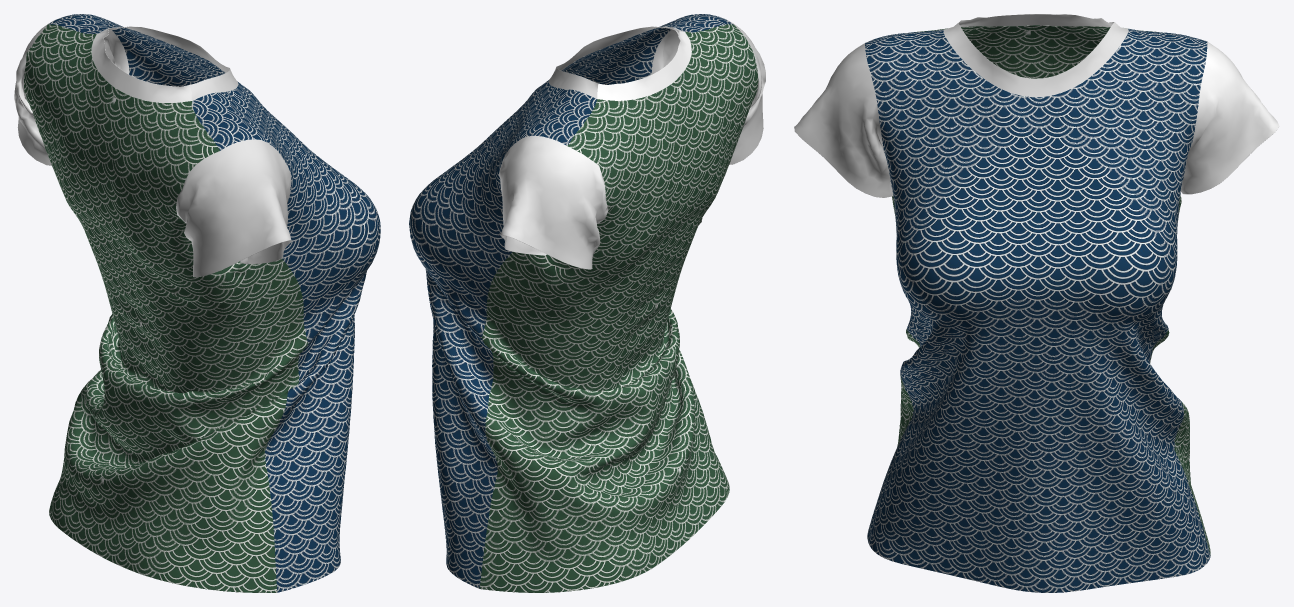
The model's file is tshirt.gltf.
3 renders of one model, left to right at view 1: azimuth 30°, elevation 25°; view 2: azimuth 150°, elevation 25°; view 3: azimuth 270°, elevation 25°, orthographic. The views are drawn at different scales.
Parts seen in each view (by area): view 1: Pattern2D_12957, Pattern2D_12956, Pattern2D_19106, Pattern2D_19107, Pattern2D_27802, Pattern2D_27801; view 2: Pattern2D_12957, Pattern2D_12956, Pattern2D_19107, Pattern2D_19106, Pattern2D_27802, Pattern2D_27801; view 3: Pattern2D_12956, Pattern2D_19106, Pattern2D_19107, Pattern2D_12957, Pattern2D_27801, Pattern2D_27802.
Part boxes in pixels (<box>): Pattern2D_12957: <box>24,24,307,592</box>; Pattern2D_12956: <box>48,14,380,592</box>; Pattern2D_19106: <box>176,139,291,277</box>; Pattern2D_19107: <box>14,15,128,165</box>; Pattern2D_27802: <box>91,28,191,102</box>; Pattern2D_27801: <box>97,26,238,100</box>; Pattern2D_12957: <box>479,24,758,592</box>; Pattern2D_12956: <box>409,14,733,588</box>; Pattern2D_19107: <box>498,135,608,269</box>; Pattern2D_19106: <box>651,17,765,164</box>; Pattern2D_27802: <box>597,27,691,100</box>; Pattern2D_27801: <box>548,26,683,98</box>; Pattern2D_12956: <box>865,28,1210,592</box>; Pattern2D_19106: <box>794,43,893,197</box>; Pattern2D_19107: <box>1180,41,1279,194</box>; Pattern2D_12957: <box>892,25,1210,555</box>; Pattern2D_27801: <box>943,22,1128,97</box>; Pattern2D_27802: <box>944,14,1118,29</box>.
Bounding box in the file's own units: 3.19 × 6.22 × 5.48.
6 materials, 2 textured.
